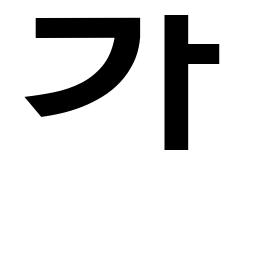Gaji: (157, 31, 204, 79)
